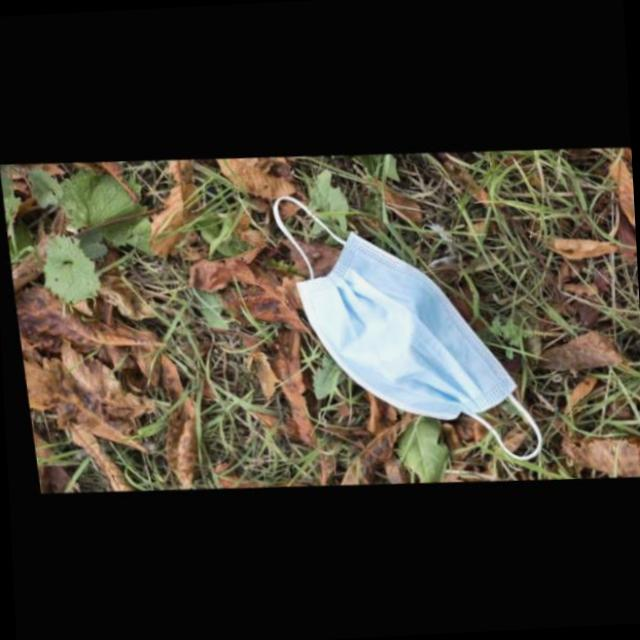khau_trang: (269, 195, 537, 463)
la_cay: (17, 345, 141, 455), (57, 169, 150, 261), (11, 289, 156, 347), (58, 342, 155, 420), (331, 413, 409, 487), (143, 160, 199, 260), (264, 332, 312, 446), (154, 351, 191, 491), (87, 248, 151, 322), (61, 424, 125, 493), (215, 285, 303, 333), (0, 171, 42, 271), (39, 236, 96, 304), (389, 416, 442, 484), (183, 245, 258, 293), (554, 439, 640, 479), (214, 158, 293, 200), (535, 330, 615, 370), (305, 170, 345, 240), (233, 332, 272, 403), (26, 435, 72, 495), (244, 261, 299, 311), (442, 153, 487, 206), (606, 161, 636, 236), (436, 415, 481, 465), (64, 342, 129, 374), (372, 180, 419, 223), (572, 270, 606, 329), (22, 168, 64, 210), (308, 355, 341, 404), (291, 243, 335, 279), (556, 376, 593, 418), (208, 462, 263, 490), (247, 411, 293, 443), (543, 239, 615, 259), (551, 262, 593, 296), (359, 395, 390, 439), (123, 346, 155, 388), (616, 204, 637, 263), (69, 162, 120, 180), (375, 457, 398, 485), (619, 148, 632, 166), (629, 382, 640, 401)
